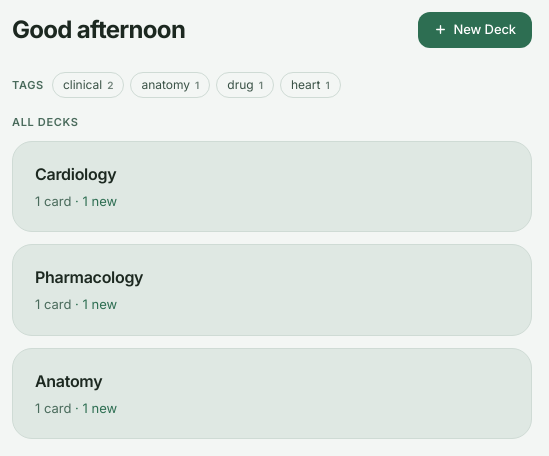
Test: LibraryView tag filter › filters decks when a tag is clicked
Click the button with test id "tag-filter-heart".
click(310, 85)  # box [280,72,341,98]
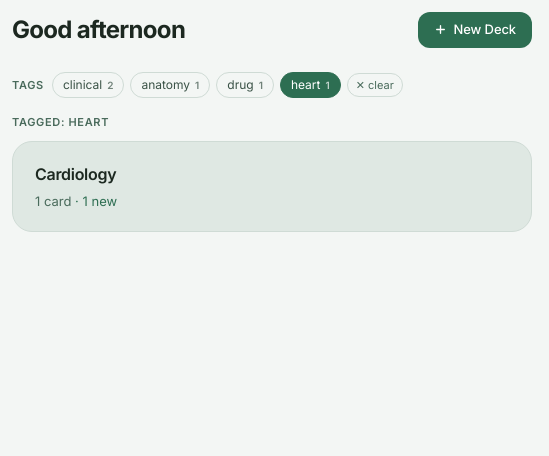
expect the text "Cardiology" is shown: met, box [35,162,116,186]
expect the text "Pharmacology" is gone: met
